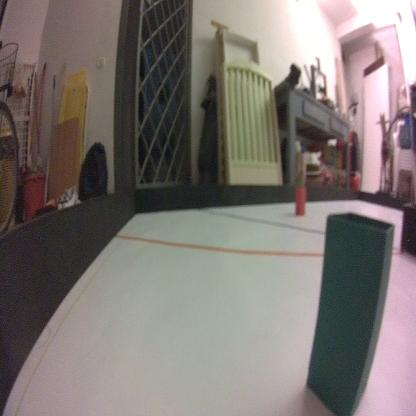green: (304, 210, 396, 416)
red: (294, 185, 306, 218)
